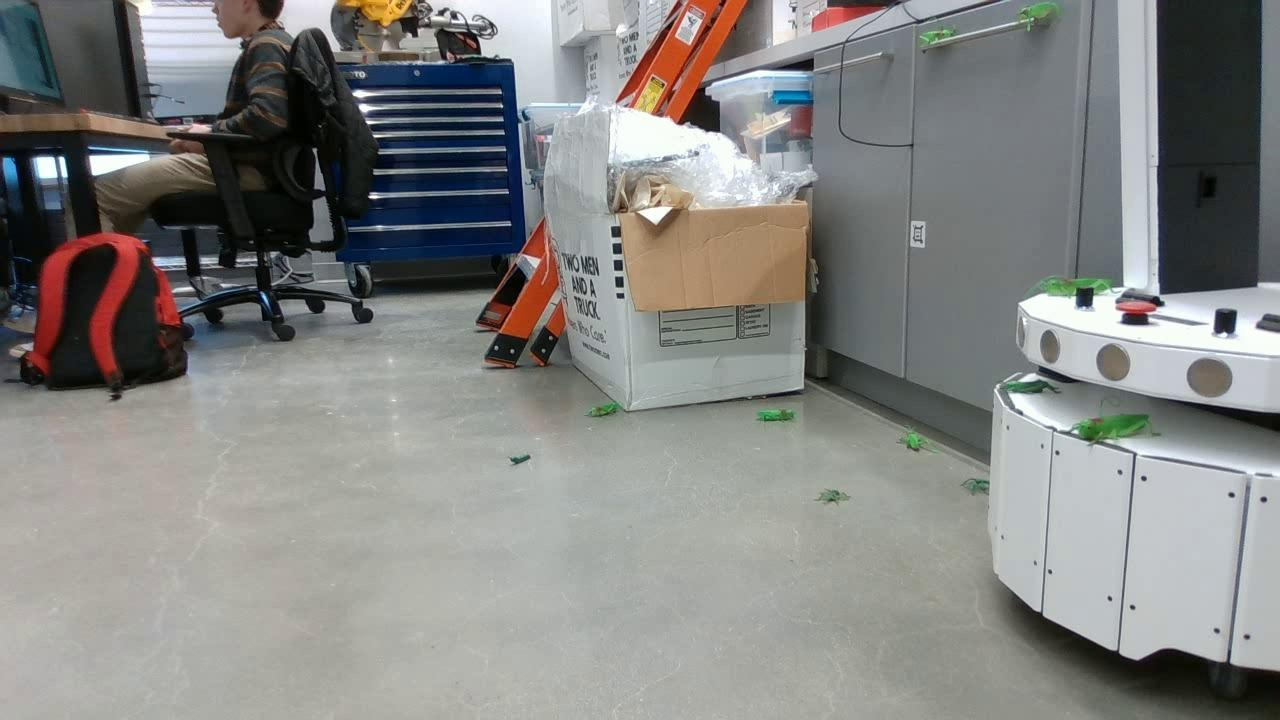grasshopper: (1060, 409, 1166, 444), (1033, 279, 1112, 298), (1012, 4, 1057, 22), (583, 403, 623, 421), (899, 427, 927, 452), (757, 411, 796, 423), (918, 30, 956, 42)
